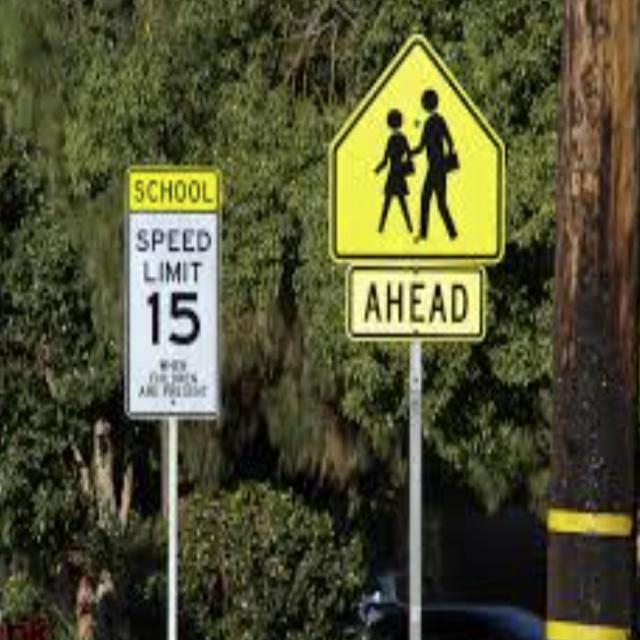speedLimit15: (129, 213, 217, 355)
